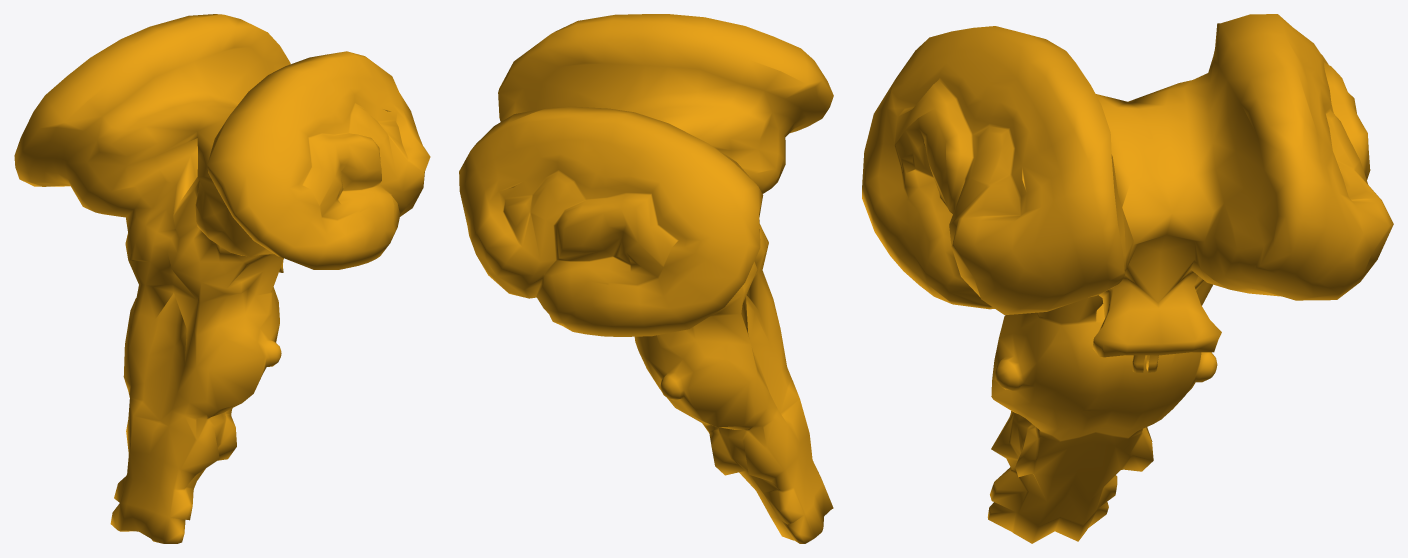
The model's file is brain-stem.glb.
3 views of the same model, side by side, from view 1: azimuth 30°, elevation 25°; view 2: azimuth 150°, elevation 25°; view 3: azimuth 270°, elevation 25° (orthographic). The views are drawn at different scales.
Visible parts, largest first — view 1: Brain_Part_05; view 2: Brain_Part_05; view 3: Brain_Part_05.
Boxes of the visible parts, x1=… form: Brain_Part_05: x1=14, y1=14, x2=430, y2=543; Brain_Part_05: x1=459, y1=14, x2=833, y2=543; Brain_Part_05: x1=862, y1=14, x2=1393, y2=543.
Size of the model in its own units: 2.18 by 2.97 by 2.49.
